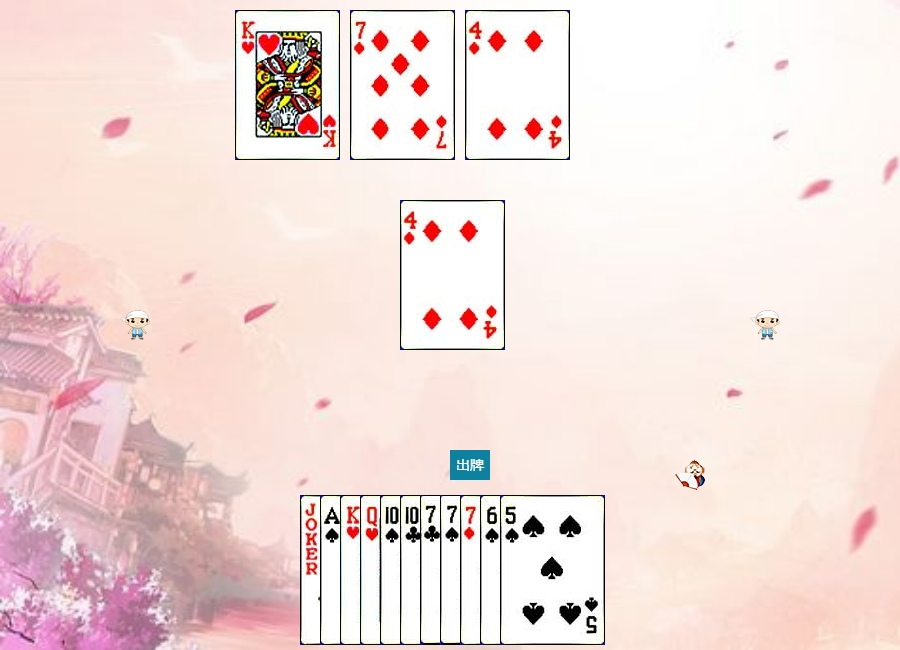10~2: (400, 495, 505, 645)
10~4: (380, 495, 485, 645)
12~3: (360, 495, 465, 645)
13~3: (235, 10, 340, 160), (340, 495, 445, 645)
14~4: (320, 495, 425, 645)
18~4: (300, 495, 405, 645)
4~1: (465, 10, 570, 160), (400, 200, 505, 350)
5~4: (500, 495, 605, 645)
6~4: (480, 495, 585, 645)
7~1: (350, 10, 455, 160), (460, 495, 565, 645)
7~2: (420, 495, 525, 645)
7~4: (440, 495, 545, 645)
